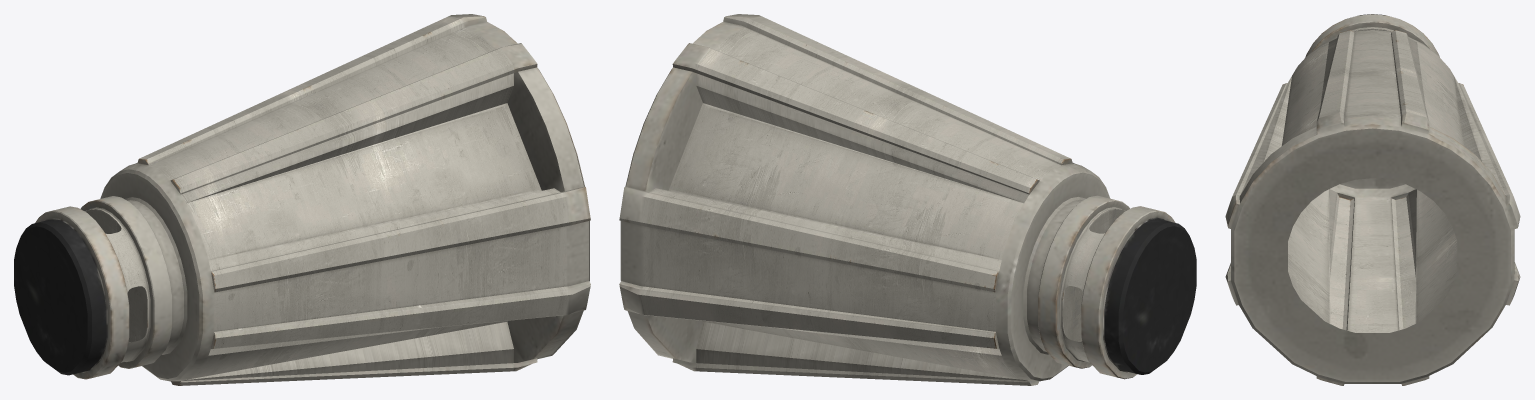
Rendered from pommel_11_c_d.glb.
The picture shows the model from 3 angles, left to right: view 1: azimuth 30°, elevation 25°; view 2: azimuth 150°, elevation 25°; view 3: azimuth 270°, elevation 25°; orthographic projection. The views are drawn at different scales.
Visible parts, largest first — view 1: pommel_11_c_d_lod0; view 2: pommel_11_c_d_lod0; view 3: pommel_11_c_d_lod0.
Boxes of the visible parts, box(x1,y1,x2,y2) form: pommel_11_c_d_lod0: box(14, 14, 590, 385); pommel_11_c_d_lod0: box(619, 14, 1196, 385); pommel_11_c_d_lod0: box(1225, 14, 1520, 385).
Size of what is drawn, in the model's own units: 0.0467 by 0.0315 by 0.0315.
Materials: 1 (1 with a texture image).
